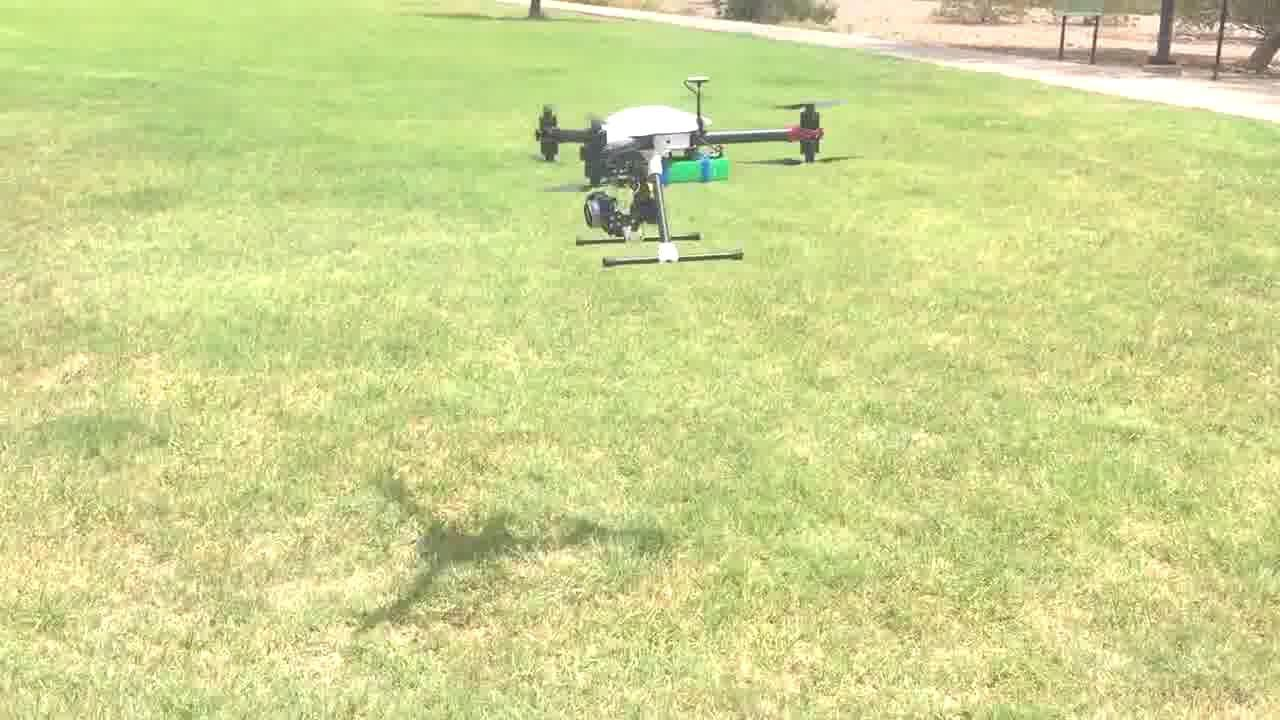drone: (532, 74, 860, 269)
